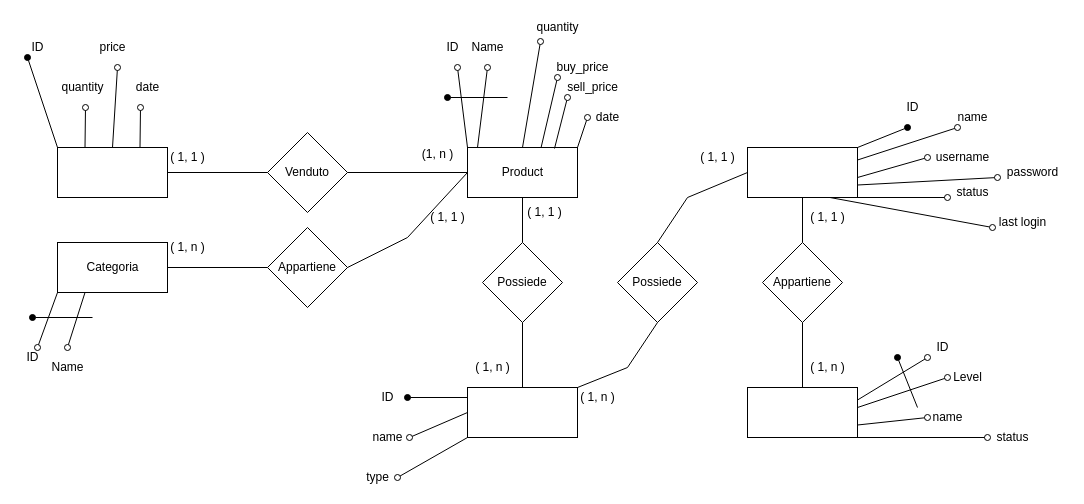
The diagram is 1084 pixels wide and 504 high, and some of its shapes have lost their labels. The shapes that lost their labels are listed below. From the top down, each one's centre as x and y in pixels, then its label:
At pixel 112 172: "Sale".
At pixel 802 172: "User".
At pixel 522 412: "Image".
At pixel 802 412: "Group".
